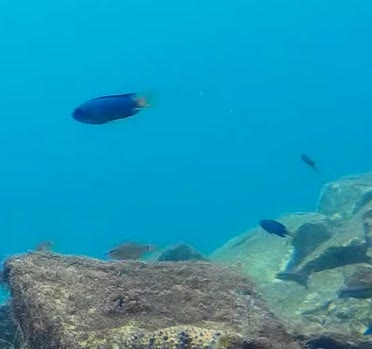smallfish: (68, 78, 155, 131)
